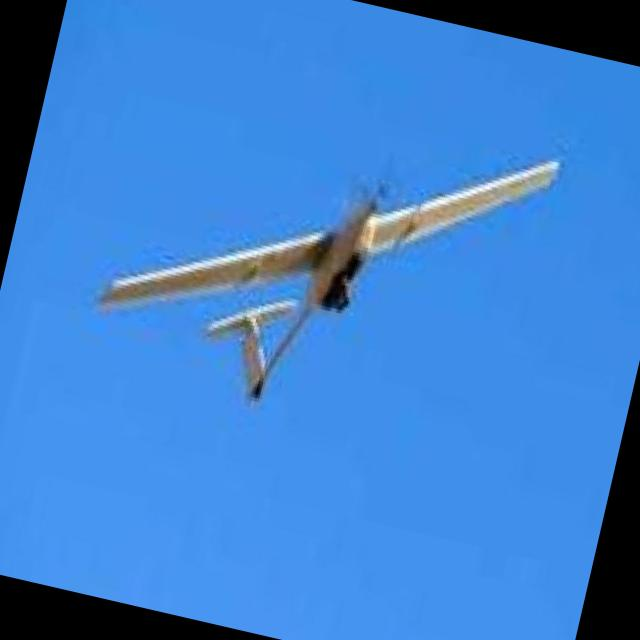UAV: (91, 136, 594, 460)
